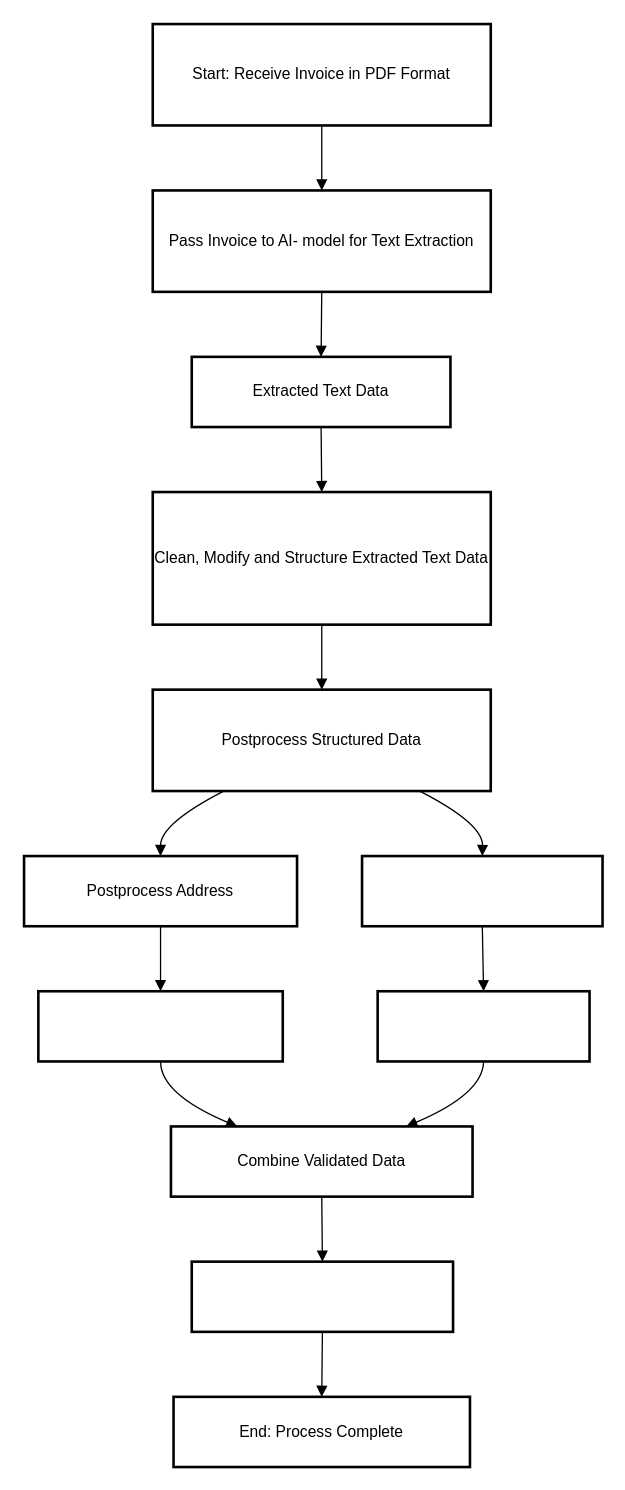
This 625x1490 diagram has some shape labels left out. Each missing label, with the centre of its shape:
"Output Data via API" belongs at (x=322, y=1296).
"Postprocess SKU" belongs at (x=481, y=890).
"Validated Address" belongs at (x=159, y=1025).
"Validated SKU" belongs at (x=483, y=1025).
